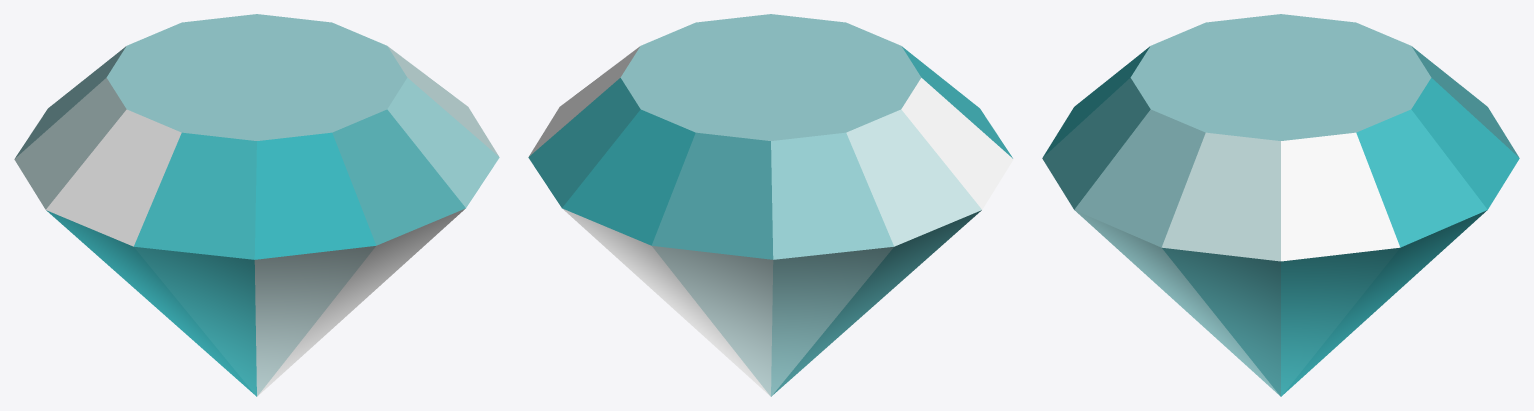
Rendered from Gem.fbx.
The picture shows the model from 3 angles, left to right: view 1: azimuth 30°, elevation 25°; view 2: azimuth 150°, elevation 25°; view 3: azimuth 270°, elevation 25°; orthographic projection.
Parts seen in each view (by area): view 1: pCylinder1; view 2: pCylinder1; view 3: pCylinder1.
Boxes of the visible parts, x1,y1,x2,y2 form: pCylinder1: (14, 14, 499, 396); pCylinder1: (528, 14, 1013, 396); pCylinder1: (1042, 14, 1519, 396).
Size of the model in its own units: 32.44 by 23.43 by 31.75.
